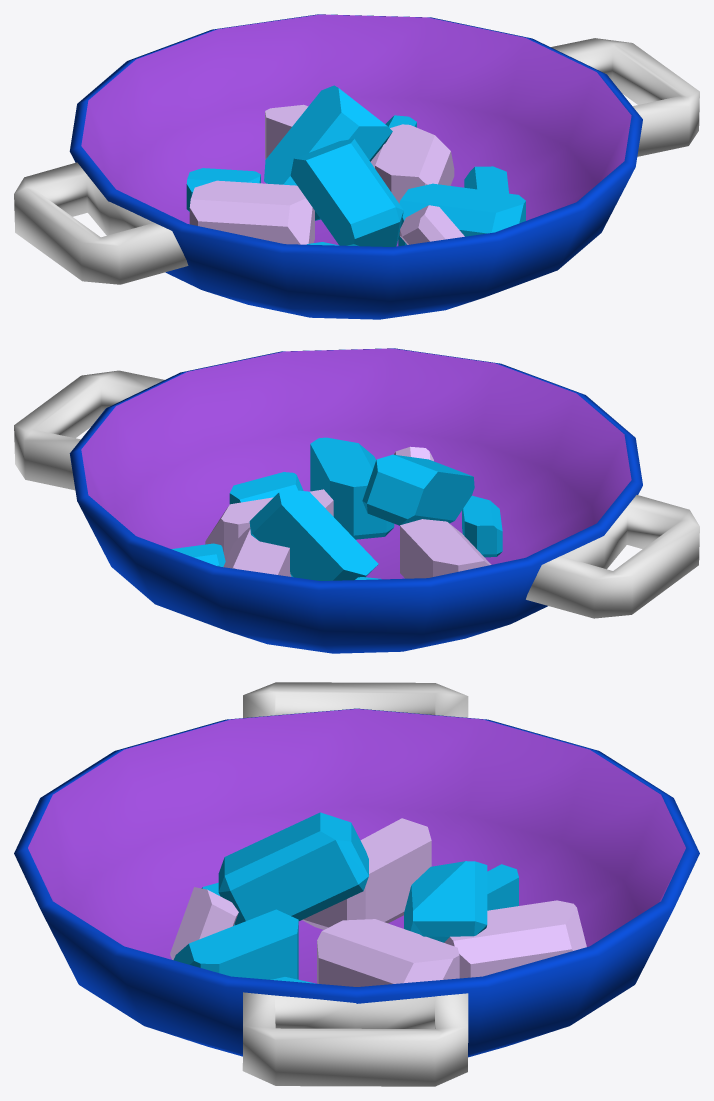
Rendered from HashBrownsWokUncooked.fbx.
The picture shows the model from 3 angles, top to bottom: view 1: azimuth 30°, elevation 25°; view 2: azimuth 150°, elevation 25°; view 3: azimuth 270°, elevation 25°; orthographic projection. The views are drawn at different scales.
Parts seen in each view (by area): view 1: Cylinder, Potato - Chopped.001, Cylinder.003; view 2: Cylinder, Potato - Chopped.001, Cylinder.003; view 3: Cylinder, Potato - Chopped.001, Cylinder.003.
Part boxes in pixels (x1,y1,x2,y2): Cylinder: (69,14,642,319); Potato - Chopped.001: (186,85,525,246); Cylinder.003: (14,38,699,284); Cylinder: (69,348,642,653); Potato - Chopped.001: (171,437,502,580); Cylinder.003: (14,370,699,618); Cylinder: (14,708,699,1057); Potato - Chopped.001: (170,812,586,986); Cylinder.003: (242,682,468,1086).
Size of the model in its own units: 66.75 by 12.17 by 54.02.
